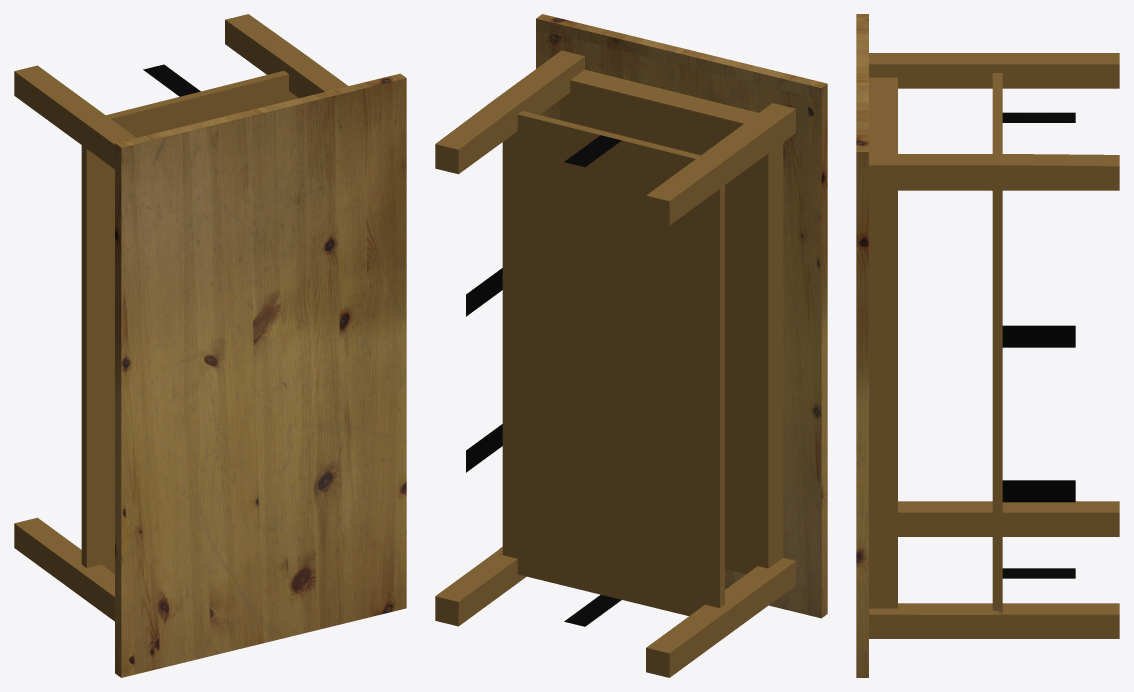
File: table_living_room.obj
3 views of the same model, side by side, from view 1: azimuth 30°, elevation 25°; view 2: azimuth 150°, elevation 25°; view 3: azimuth 270°, elevation 25° (orthographic).
Parts seen in each view (by area): view 1: table_living_room; view 2: table_living_room; view 3: table_living_room.
Boxes of the visible parts, box(x1,y1,x2,y2) form: table_living_room: box(14, 14, 406, 677); table_living_room: box(435, 14, 827, 677); table_living_room: box(856, 14, 1119, 677).
Bounding box in the file's own units: 0.6703 × 1.19 × 0.5396.
2 materials, 1 textured.
